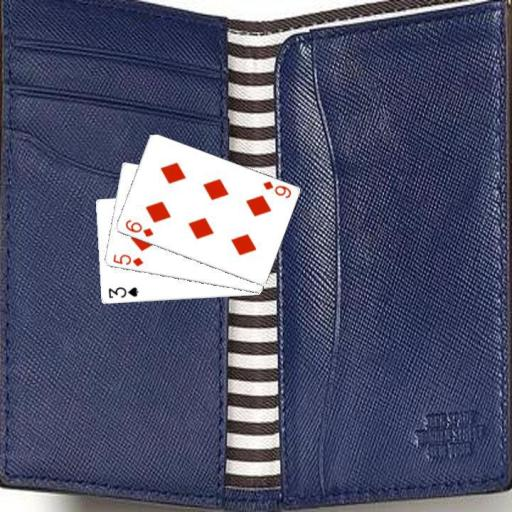3S: (106, 285, 140, 300)
5D: (110, 251, 145, 268)
6D: (122, 216, 154, 239), (260, 178, 292, 200)
